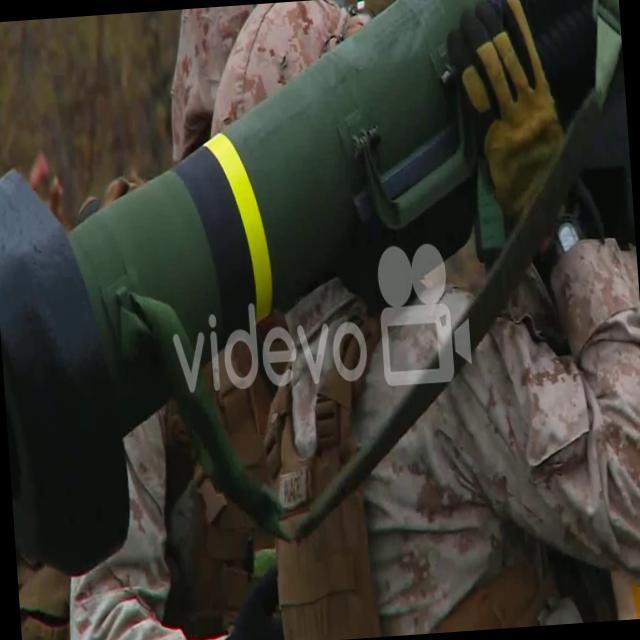rocket: (0, 0, 507, 568)
